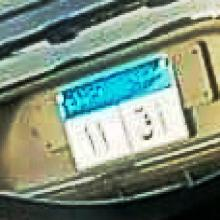1: (82, 122, 97, 158), (98, 121, 111, 154)
alif: (156, 104, 169, 136)
qaaf: (132, 106, 154, 142)
